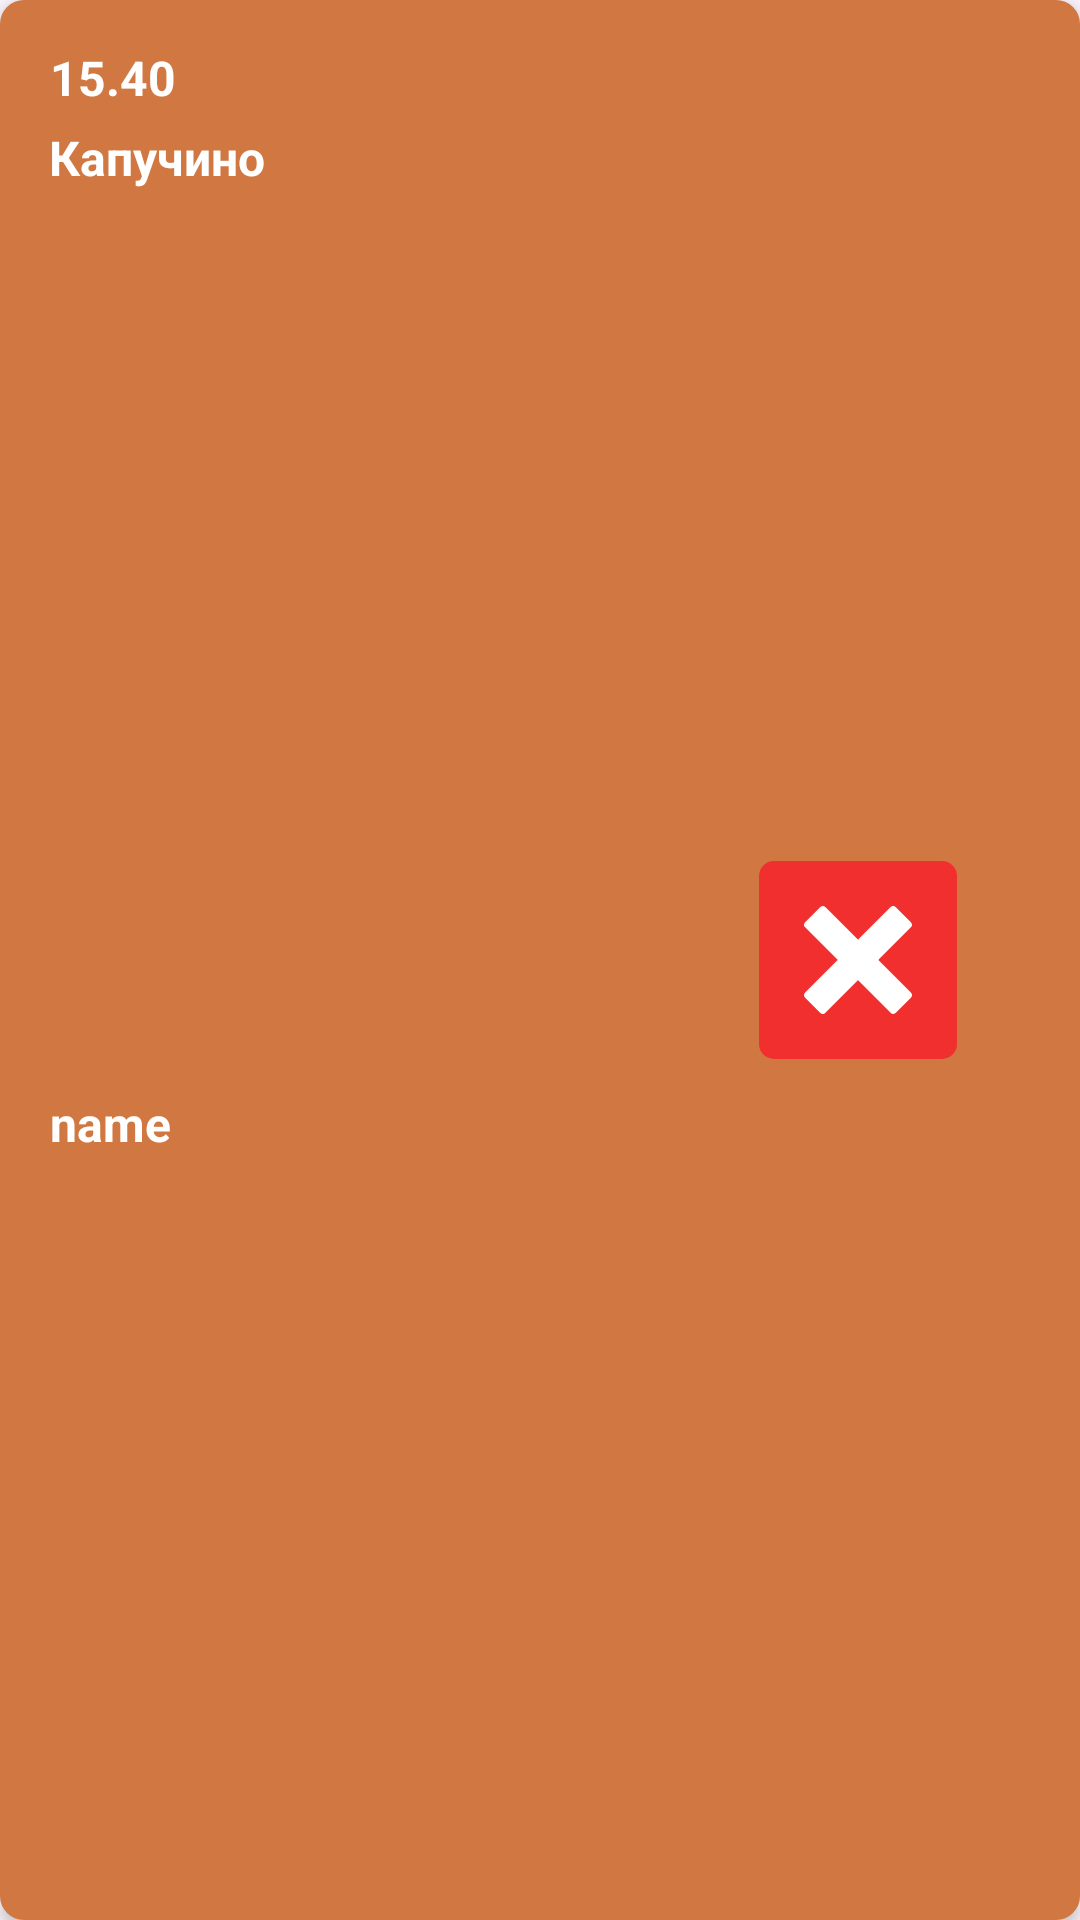

Locate icon controls on the screen. Image size 1080×1920, boxes as detection(x1, y1, x2, y2).
cross: detection(804, 906, 912, 1014)
